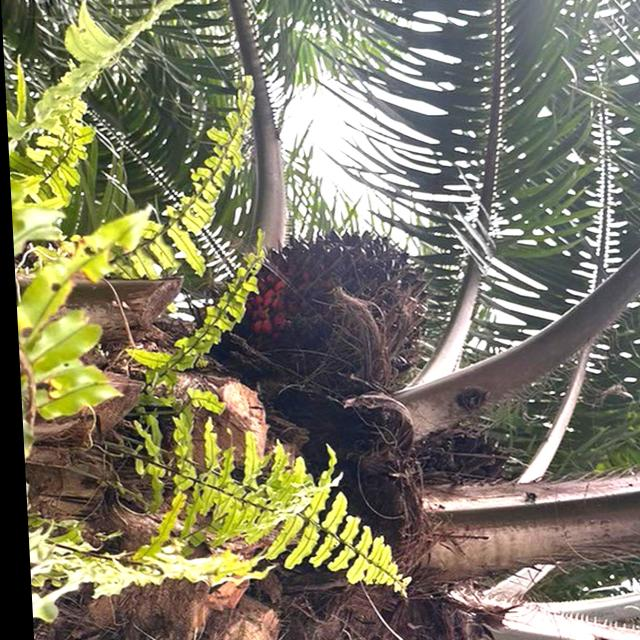ripe: (248, 211, 447, 400)
